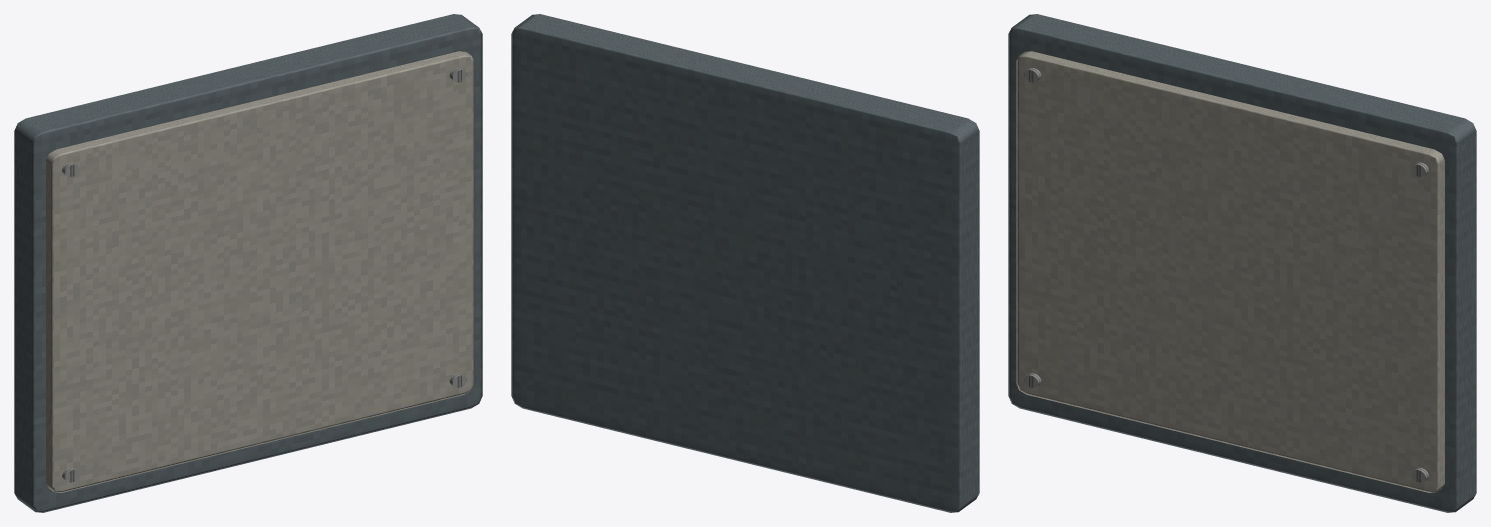
File: family-photo.glb
The picture shows the model from 3 angles, left to right: view 1: azimuth 30°, elevation 25°; view 2: azimuth 150°, elevation 25°; view 3: azimuth 330°, elevation 25°; orthographic projection.
Parts seen in each view (by area): view 1: face, back; view 2: back; view 3: face, back.
Boxes of the visible parts, box(x1,y1,x2,y2) form: face: box(46, 51, 474, 492); back: box(14, 14, 482, 512); back: box(511, 14, 979, 512); face: box(1016, 51, 1444, 492); back: box(1008, 14, 1476, 512).
Size of the model in its own units: 0.21 by 0.17 by 0.0216.
3 materials, 3 textured.
